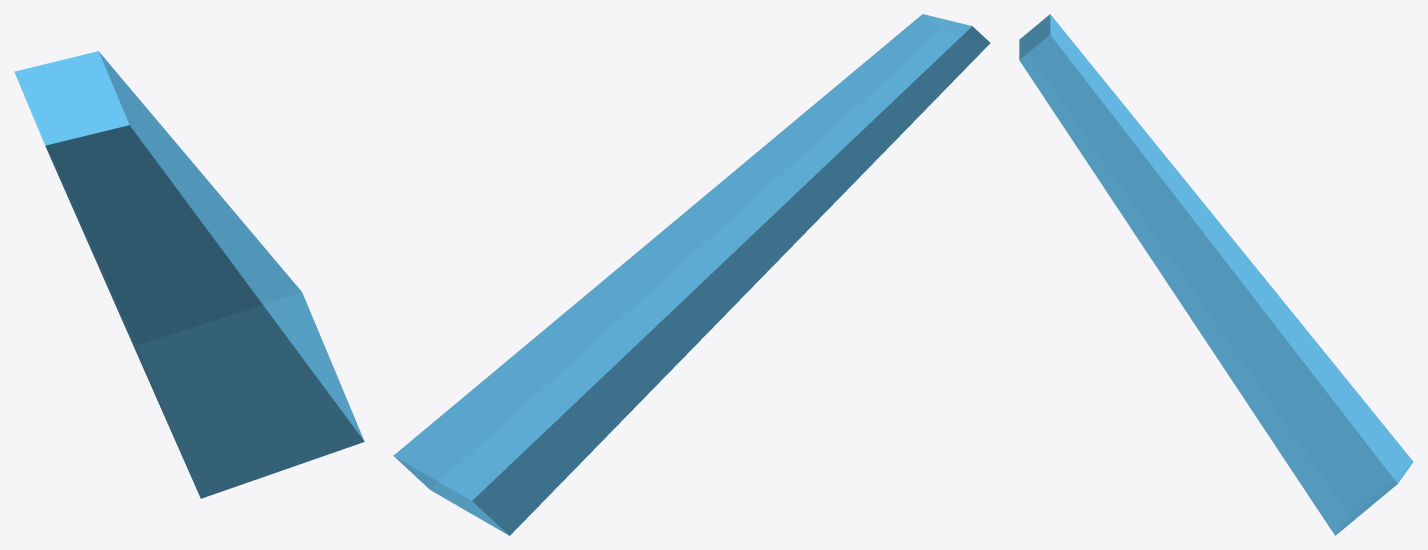
File: Event_421115418_HBrechit_28.fbx
The picture shows the model from 3 angles, left to right: view 1: azimuth 30°, elevation 25°; view 2: azimuth 150°, elevation 25°; view 3: azimuth 270°, elevation 25°; orthographic projection. The views are drawn at different scales.
Parts seen in each view (by area): view 1: Model; view 2: Model; view 3: Model.
Boxes of the visible parts, x1,y1,x2,y2 form: Model: [14, 51, 364, 498]; Model: [393, 14, 990, 535]; Model: [1019, 14, 1413, 535].
Bounding box in the file's own units: 3.51 × 4.04 × 3.77.
